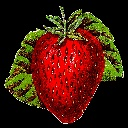strawberry: (32, 18, 107, 123)
